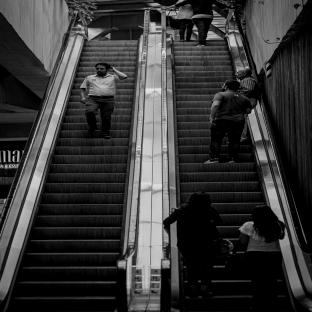Human: (163, 192, 223, 297), (239, 205, 285, 312), (206, 80, 252, 163), (80, 62, 127, 139), (165, 0, 230, 47), (235, 68, 262, 109), (177, 4, 193, 41), (240, 114, 248, 143)
